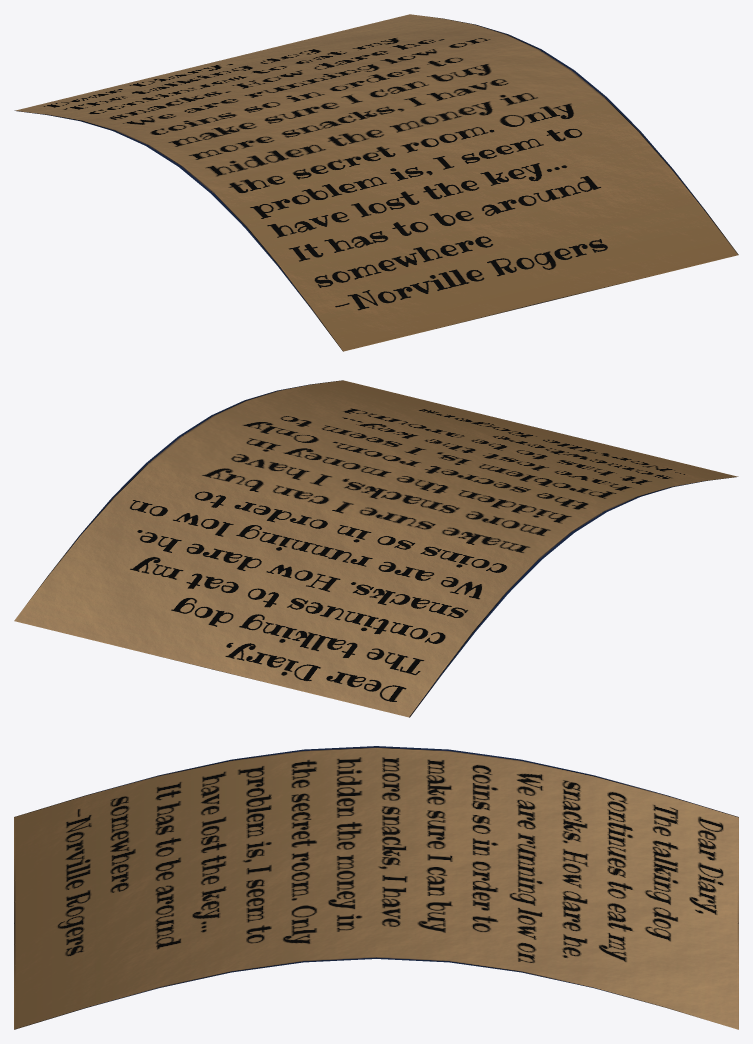
The model's file is clue1.fbx.
The picture shows the model from 3 angles, top to bottom: view 1: azimuth 30°, elevation 25°; view 2: azimuth 150°, elevation 25°; view 3: azimuth 270°, elevation 25°; orthographic projection. The views are drawn at different scales.
Visible parts, largest first — view 1: DiaryPage; view 2: DiaryPage; view 3: DiaryPage.
Boxes of the visible parts, x1=… form: DiaryPage: x1=14, y1=14, x2=738, y2=351; DiaryPage: x1=14, y1=380, x2=738, y2=717; DiaryPage: x1=14, y1=746, x2=738, y2=1029.
Size of the model in its own units: 0.6949 by 0.1081 by 1.
